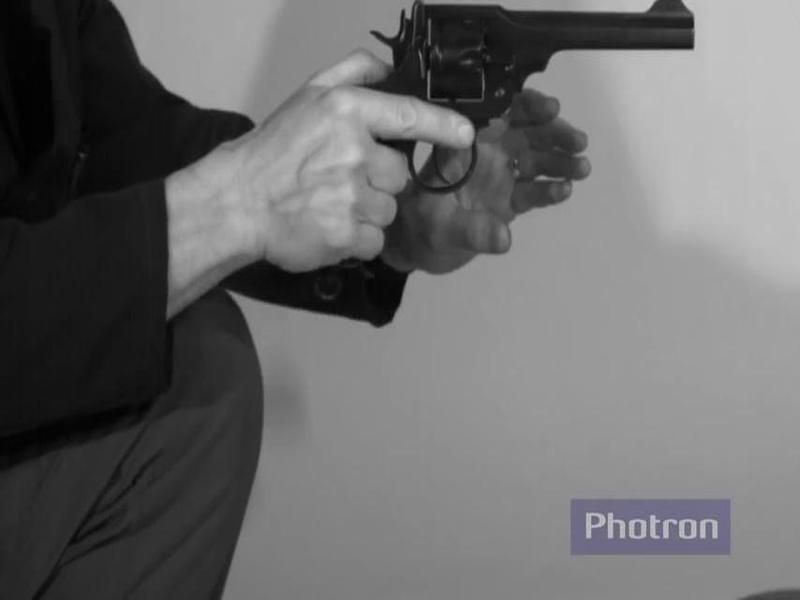Revolver: (357, 4, 717, 204)
